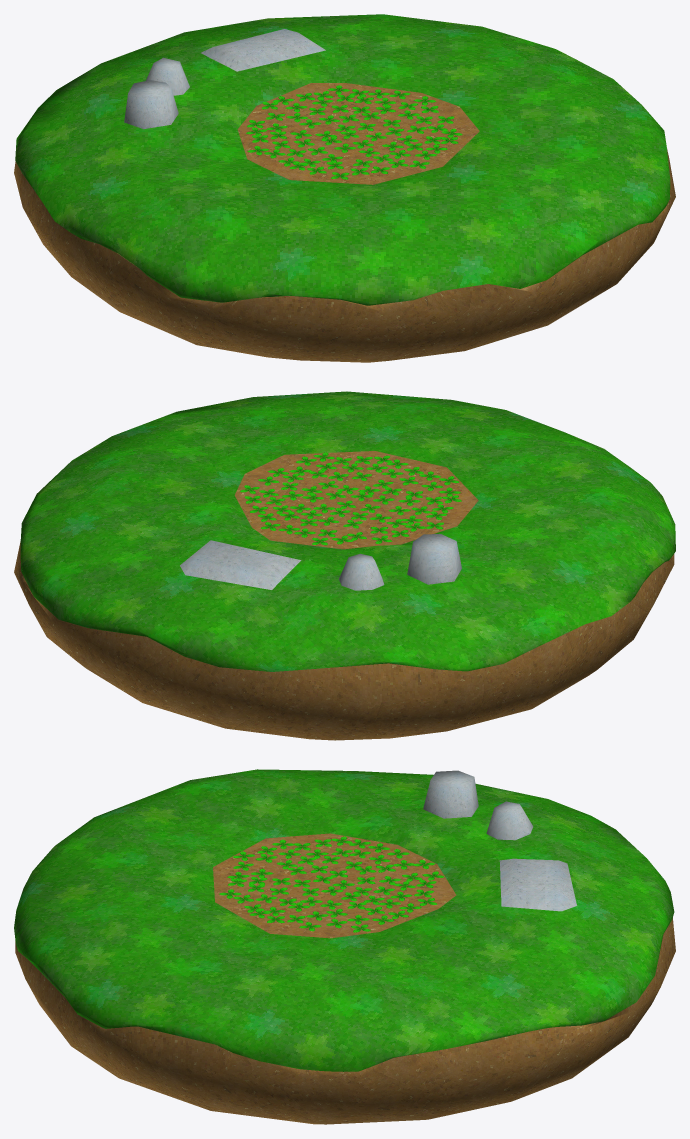
Rendered from HikeGardenRevolutionLow.fbx.
3 renders of one model, top to bottom at view 1: azimuth 30°, elevation 25°; view 2: azimuth 150°, elevation 25°; view 3: azimuth 270°, elevation 25°, orthographic.
Visible parts, largest first — view 1: Plane.000, Plane.002, Plane.001, Plane.003; view 2: Plane.000, Plane.002, Plane.001, Plane.003; view 3: Plane.000, Plane.002, Plane.001, Plane.003.
Part boxes in pixels (bbox=[...]): Plane.000: bbox=[15, 14, 670, 305]; Plane.002: bbox=[14, 83, 675, 362]; Plane.001: bbox=[246, 85, 462, 179]; Plane.003: bbox=[124, 29, 325, 129]; Plane.000: bbox=[20, 391, 675, 671]; Plane.002: bbox=[14, 451, 674, 740]; Plane.001: bbox=[240, 452, 461, 545]; Plane.003: bbox=[180, 534, 461, 590]; Plane.000: bbox=[14, 769, 674, 1071]; Plane.002: bbox=[15, 833, 675, 1124]; Plane.001: bbox=[219, 836, 444, 932]; Plane.003: bbox=[423, 770, 576, 911].
Size of the model in its own units: 293878 by 93858 by 293728.
